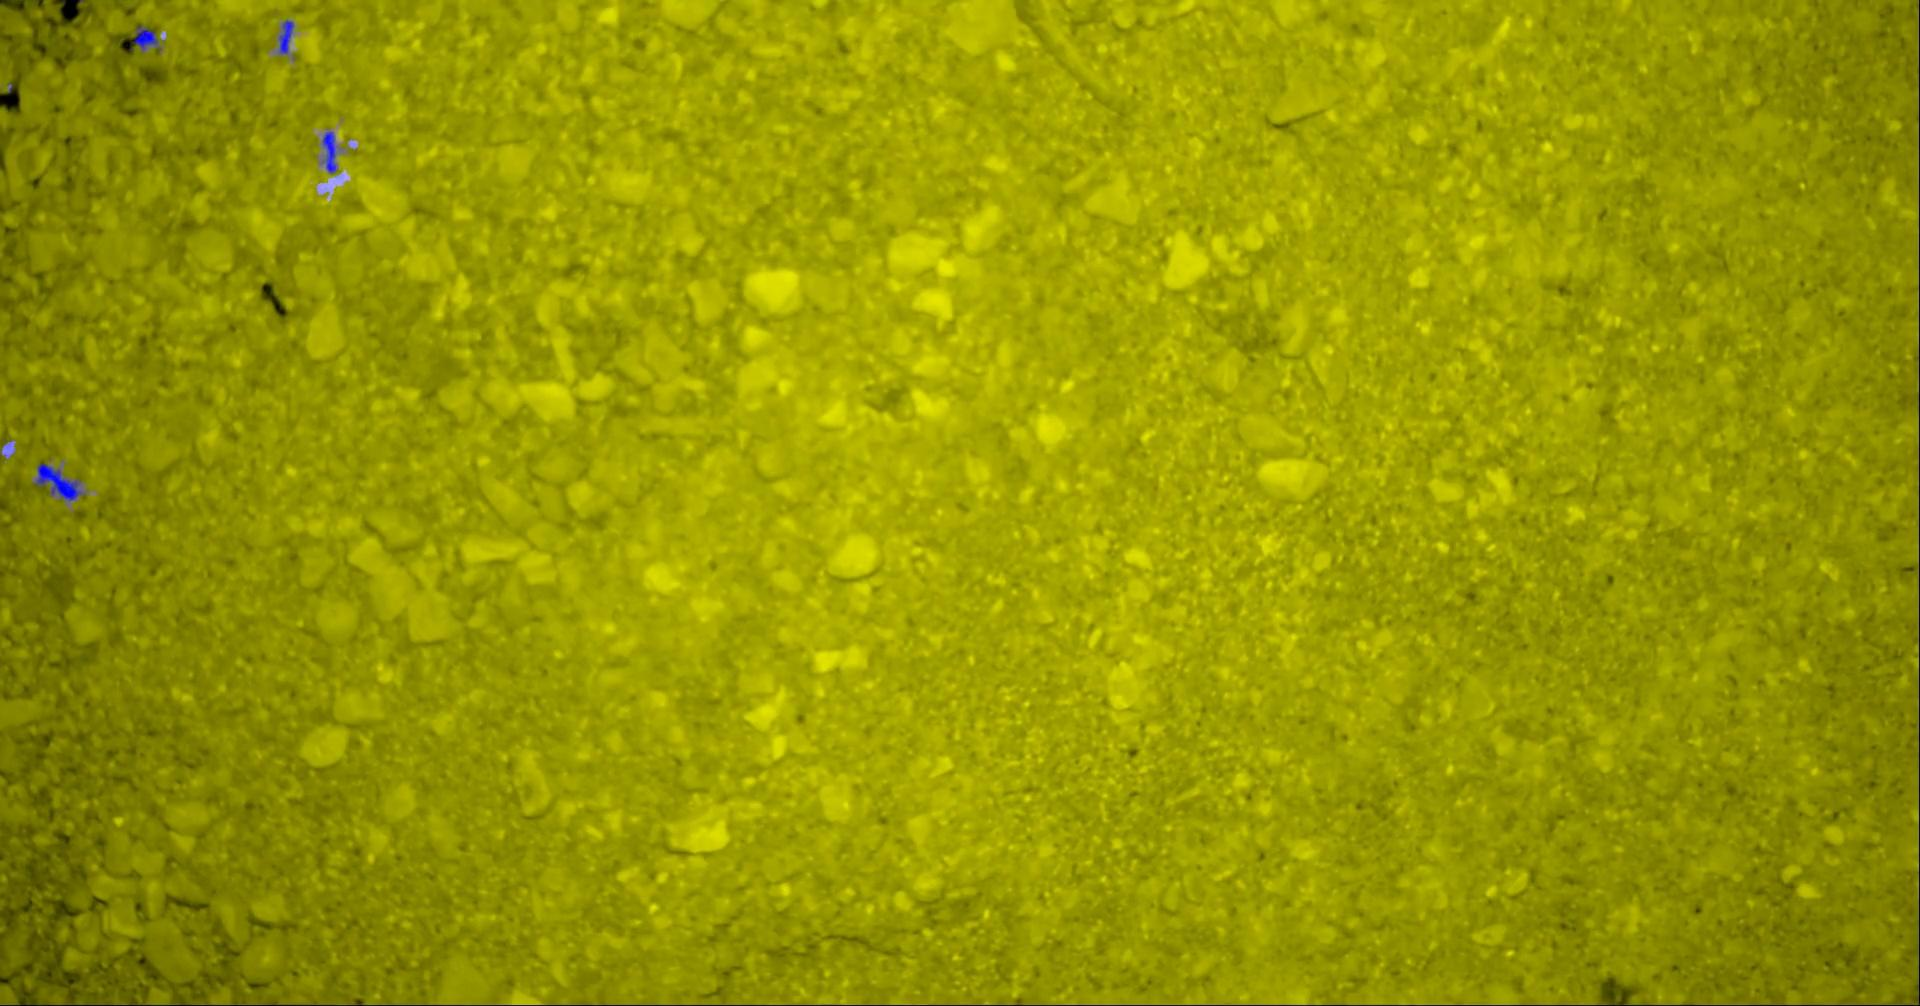ant: (33, 462, 81, 500), (132, 25, 157, 50), (323, 131, 337, 173), (278, 19, 293, 53)
